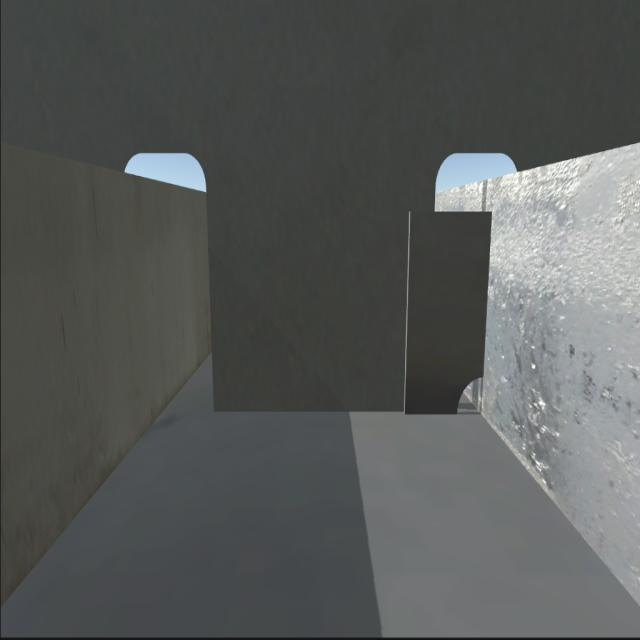fillet_hole: (460, 376, 488, 421)
fillet_yong_jeop_jang: (214, 406, 458, 422)
longi_yong_jeop_jang: (481, 212, 487, 382)
plate_CP01: (411, 211, 483, 409)
